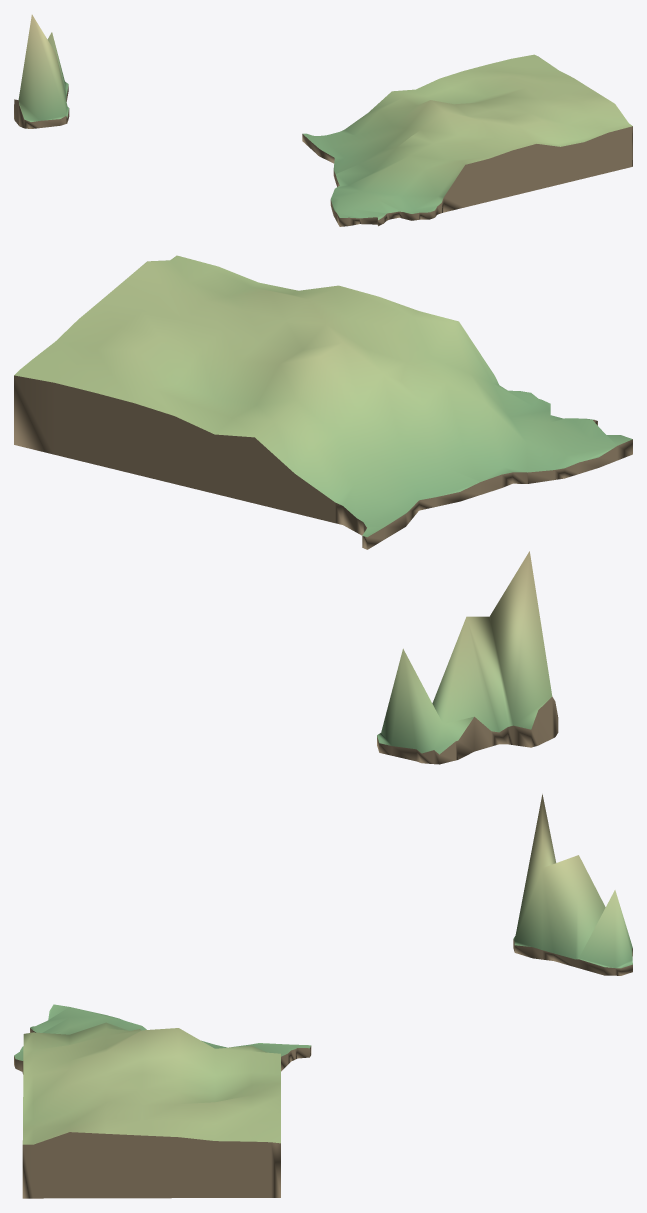
Rendered from GNQ.glb.
The picture shows the model from 3 angles, top to bottom: view 1: azimuth 30°, elevation 25°; view 2: azimuth 150°, elevation 25°; view 3: azimuth 270°, elevation 25°; orthographic projection. The views are drawn at different scales.
Parts seen in each view (by area): view 1: GNQ; view 2: GNQ; view 3: GNQ.
Part boxes in pixels (x1,y1,x2,y2): GNQ: (14,14,632,226); GNQ: (14,255,632,764); GNQ: (14,794,632,1198).
Size of the model in its own units: 1.37 by 0.338 by 1.32.
